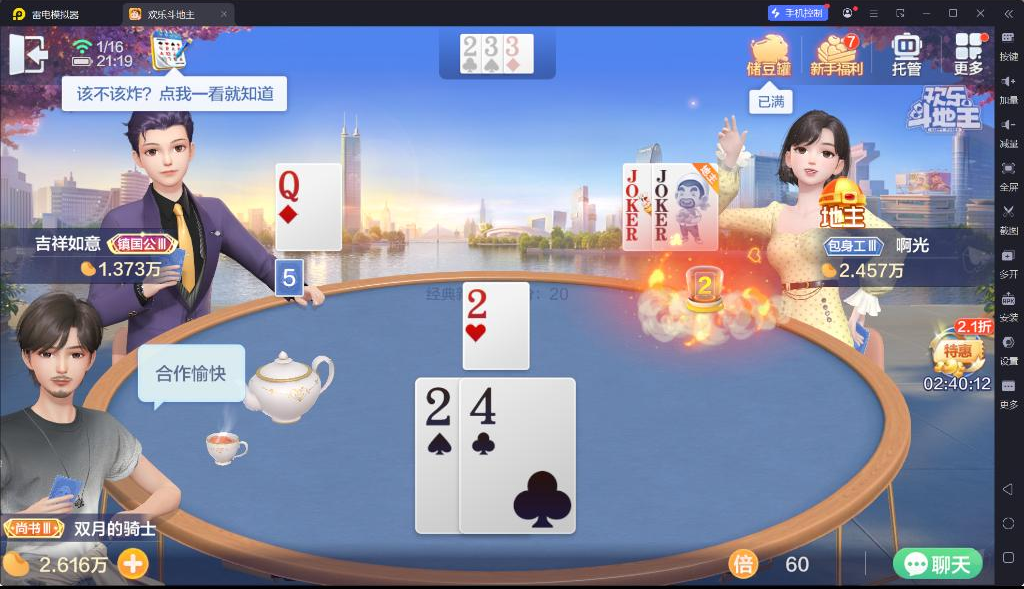JOKER: (624, 166, 641, 214)
Q: (277, 168, 303, 203)
four: (465, 382, 499, 428)
joker: (654, 166, 670, 215)
three: (482, 35, 500, 58), (504, 35, 520, 57)
two: (422, 385, 454, 428), (467, 288, 490, 320), (460, 35, 479, 58)
